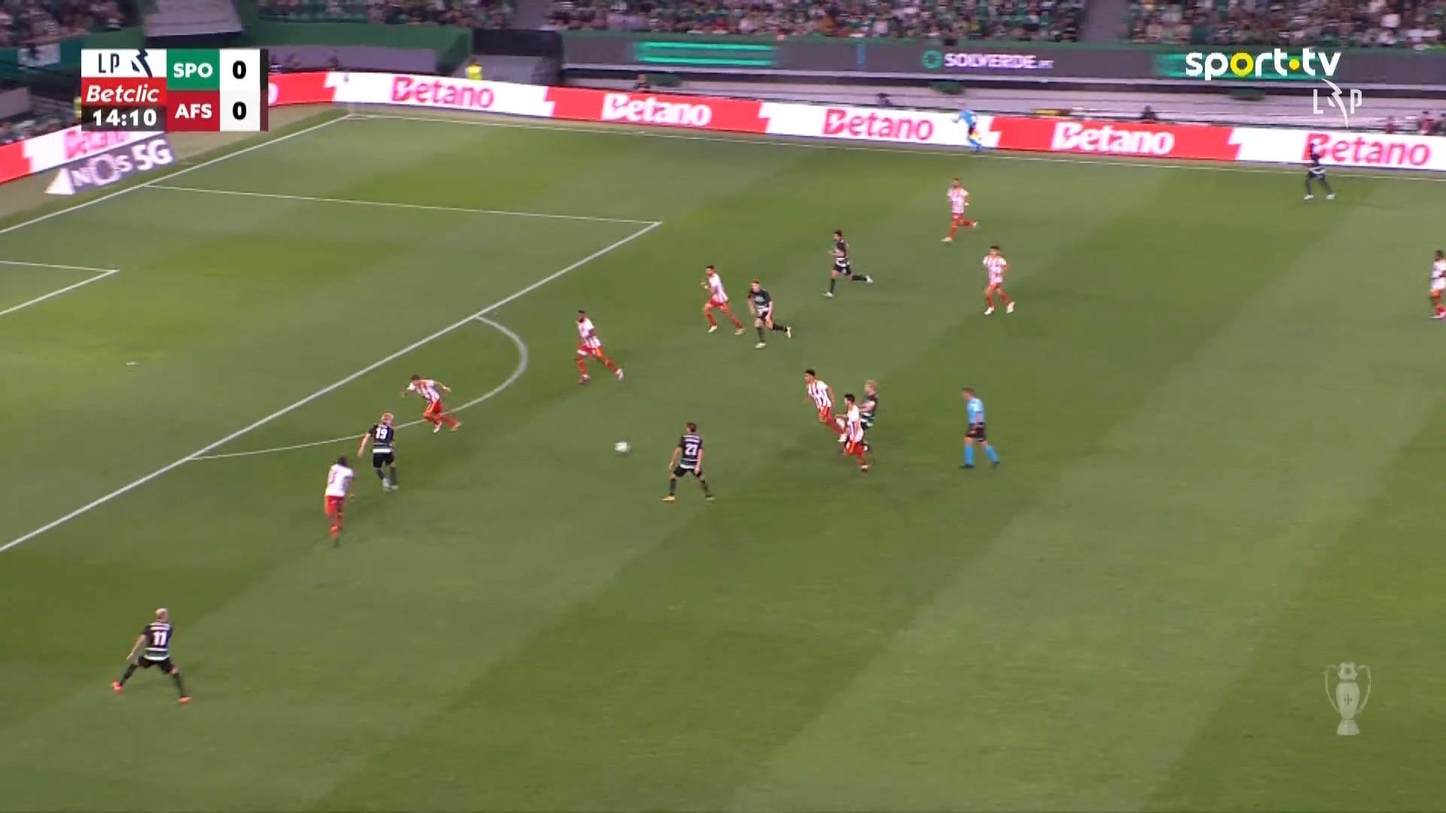ball: (614, 440, 630, 453)
player: (111, 606, 191, 704), (661, 421, 715, 502), (573, 309, 625, 385), (400, 373, 462, 434), (822, 228, 873, 298), (801, 367, 847, 443), (356, 411, 399, 492), (699, 263, 745, 336), (746, 279, 792, 349), (323, 455, 355, 546), (835, 392, 871, 470), (939, 175, 980, 243), (981, 245, 1015, 315), (1301, 139, 1336, 200), (856, 379, 879, 437), (1427, 248, 1444, 318)
referee: (957, 385, 1000, 469), (951, 108, 984, 153)
